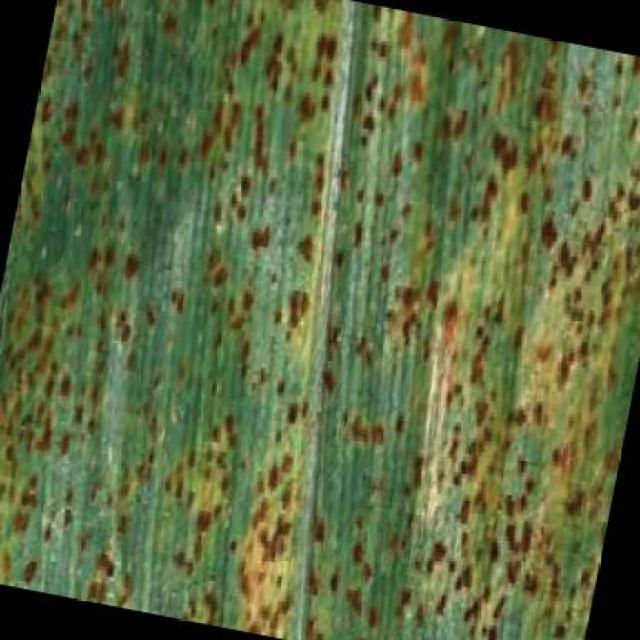Corn_Rust: (88, 65, 575, 600)
